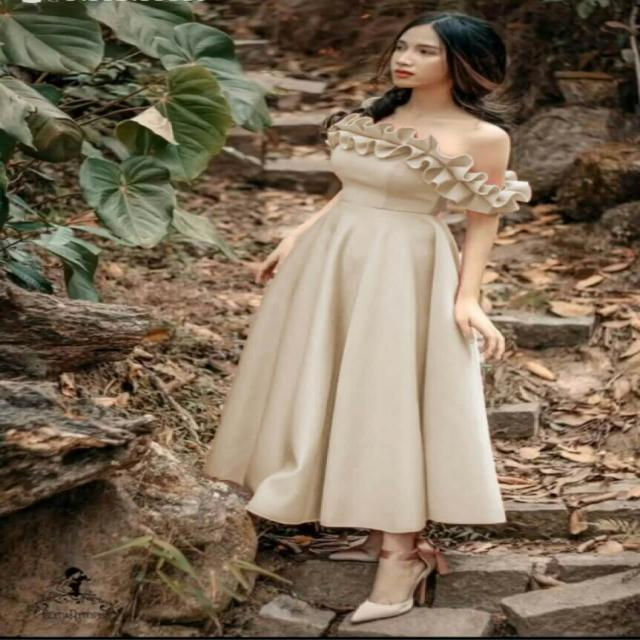clothes: (205, 113, 530, 528)
